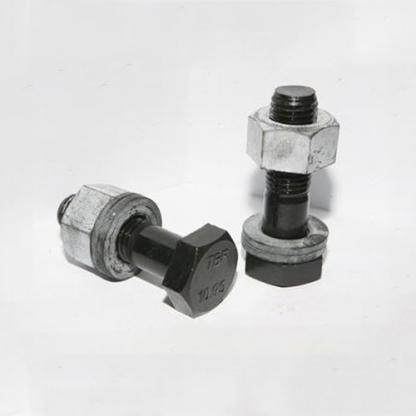FOD: (243, 102, 340, 174)
